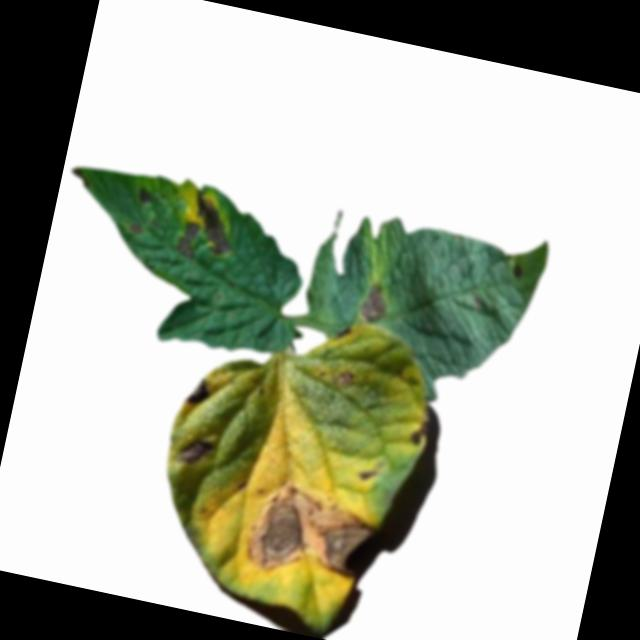Early_blight: (241, 478, 382, 592), (182, 186, 242, 259), (357, 280, 391, 323), (174, 432, 215, 467), (175, 217, 201, 258), (182, 374, 213, 407), (408, 415, 429, 444), (332, 367, 354, 389), (133, 184, 153, 205), (356, 466, 377, 483), (124, 218, 142, 234), (510, 261, 524, 278)
